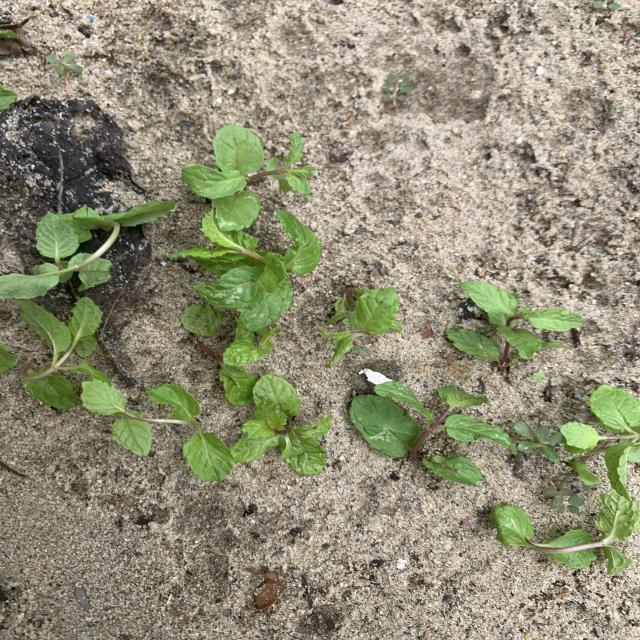crop: (169, 206, 319, 332), (349, 381, 514, 484), (83, 378, 232, 480), (182, 125, 315, 228), (446, 281, 583, 371), (491, 488, 636, 573), (7, 296, 110, 407), (182, 303, 283, 402), (1, 210, 113, 299), (231, 375, 330, 474), (561, 385, 639, 494), (319, 287, 400, 366), (1, 85, 15, 109)
weed: (514, 423, 562, 462), (544, 483, 583, 511), (380, 74, 415, 102), (48, 53, 82, 75), (593, 1, 619, 10), (528, 371, 544, 382), (611, 106, 624, 114)
